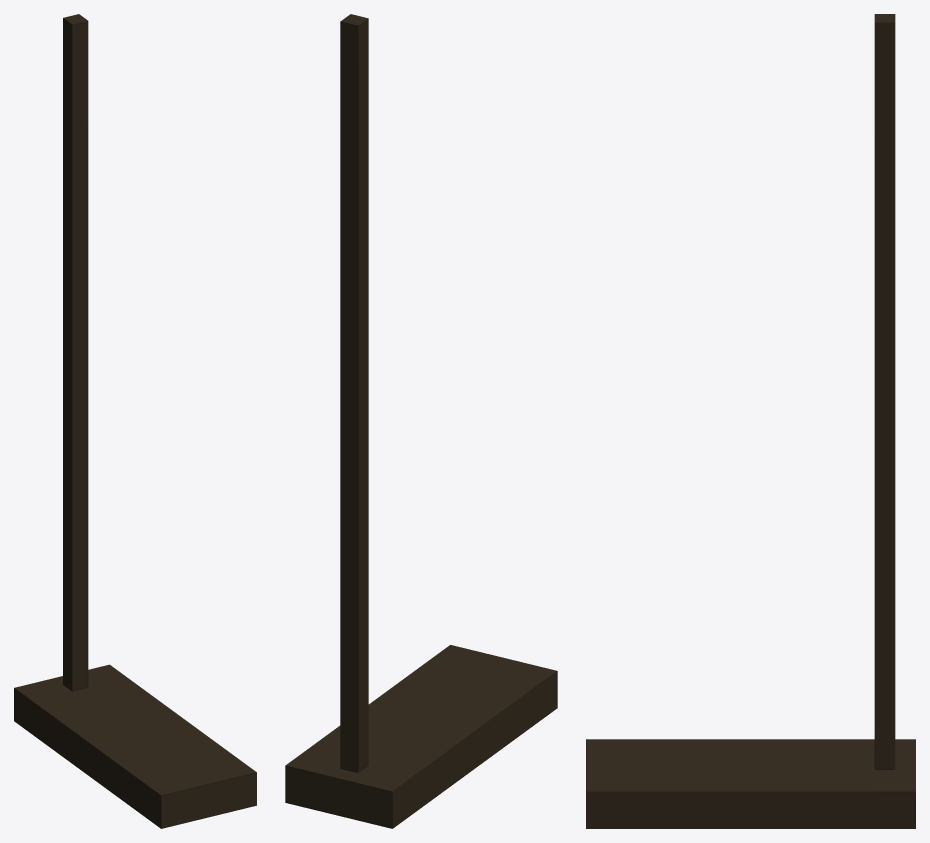
The model's file is dc_metro_mezzanine_light_2.obj.
3 views of the same model, side by side, from view 1: azimuth 30°, elevation 25°; view 2: azimuth 150°, elevation 25°; view 3: azimuth 270°, elevation 25° (orthographic). The views are drawn at different scales.
Parts seen in each view (by area): view 1: cube; view 2: cube; view 3: cube.
Boxes of the visible parts, box(x1,y1,x2,y2) form: cube: box(14, 14, 256, 828); cube: box(285, 14, 557, 828); cube: box(586, 14, 915, 828).
Size of the model in its own units: 0.375 by 2.62 by 1.
1 material, 1 textured.
